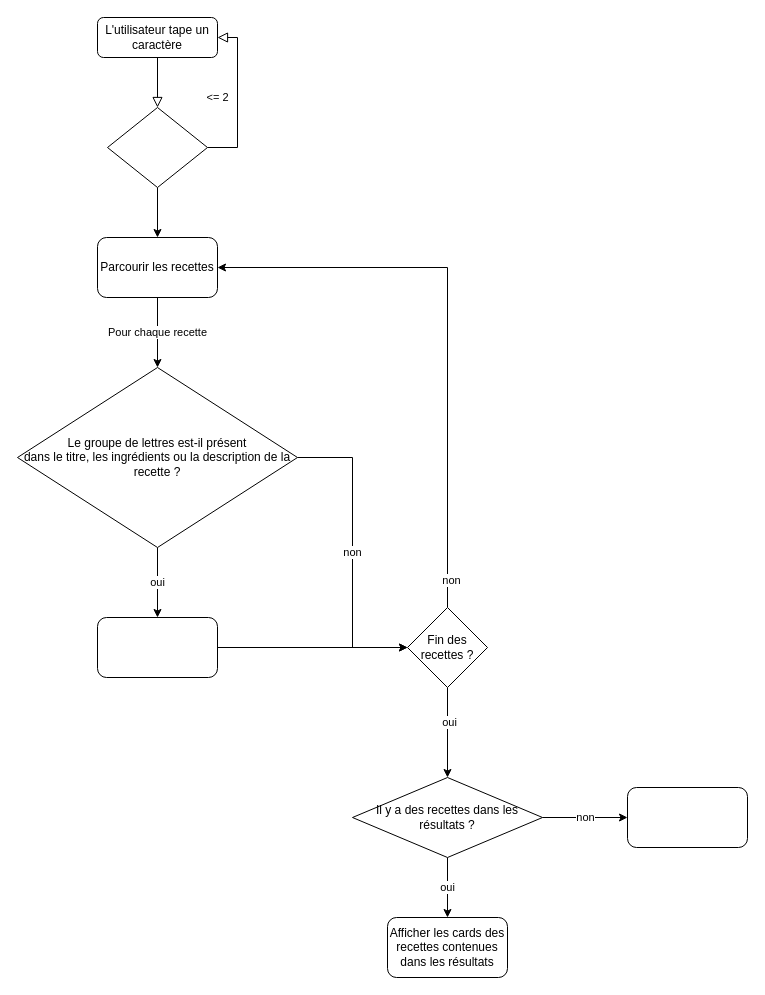
This 765x995 diagram has some shape labels left out. The shapes that lost their labels are listed below. From the top down, each one's centre as x and y in pixels, then its label:
[157,147]: Nombre de lettres tapées ?
[157,647]: Ajouter la recette dans les résultats
[687,817]: Afficher "Aucune recette ne contient 'xxx'"
